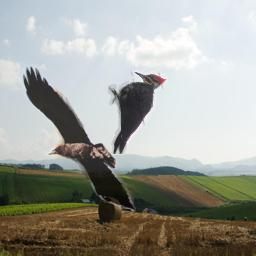Crow: (20, 64, 136, 212)
Woodpecker: (108, 70, 168, 154)
